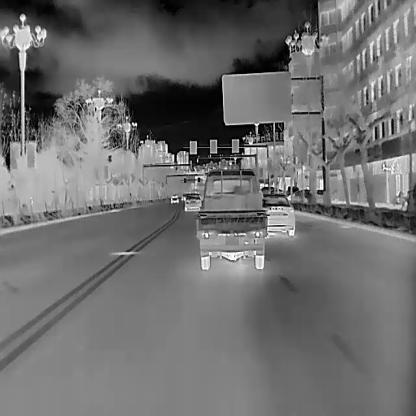car: (258, 193, 294, 238), (292, 188, 324, 204), (184, 193, 201, 211), (261, 186, 282, 196), (285, 186, 298, 198), (170, 193, 178, 203), (181, 193, 185, 202)
truck: (195, 168, 267, 271)
